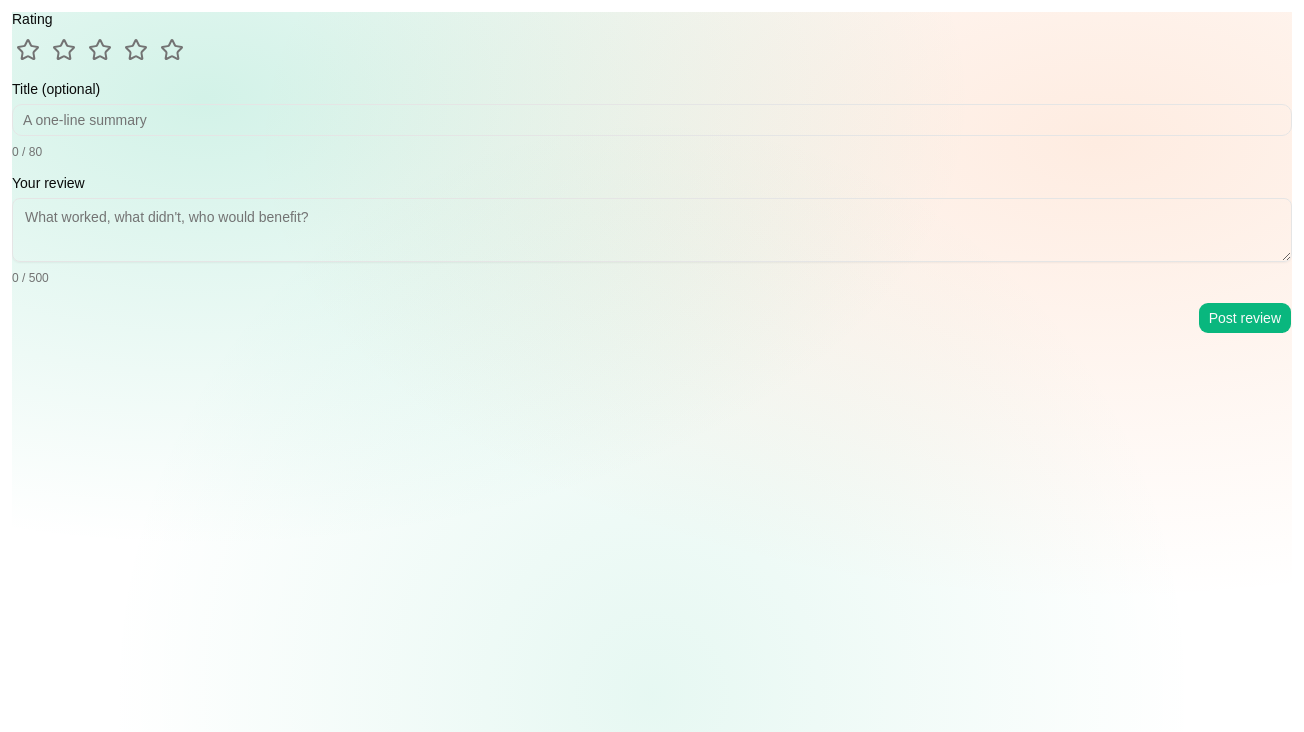
Test: WriteReviewDialog › WR2: shows validation error when rating is missing
This screenshot has width=1304, height=732.
Type "Decent tool overall" into the text box labelled "Your review". click: (652, 230)
box: top-left (12, 198), bottom-right (1292, 262)
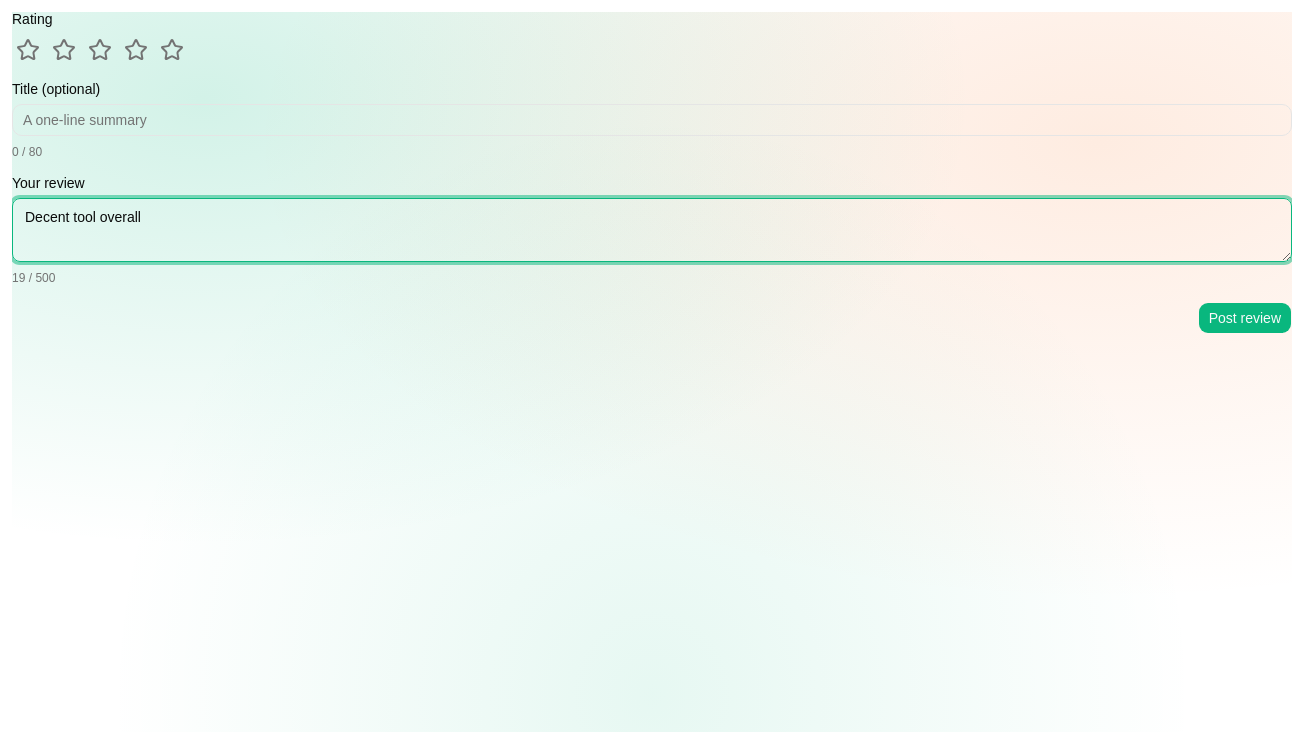
Click the button "Post review". click: (1245, 318)
box: top-left (1198, 302), bottom-right (1292, 334)
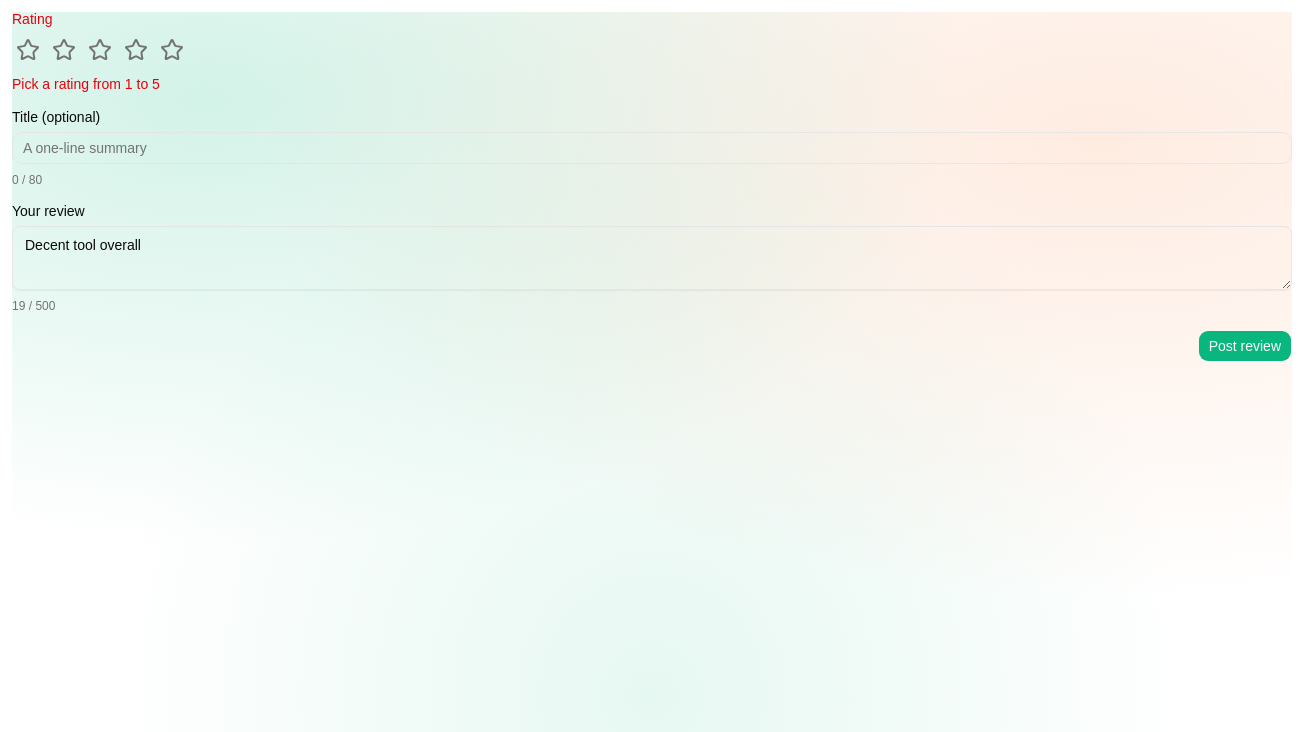
expect the text "Pick a rating from 1 to 5" is shown: met, box top-left (12, 76), bottom-right (160, 92)
